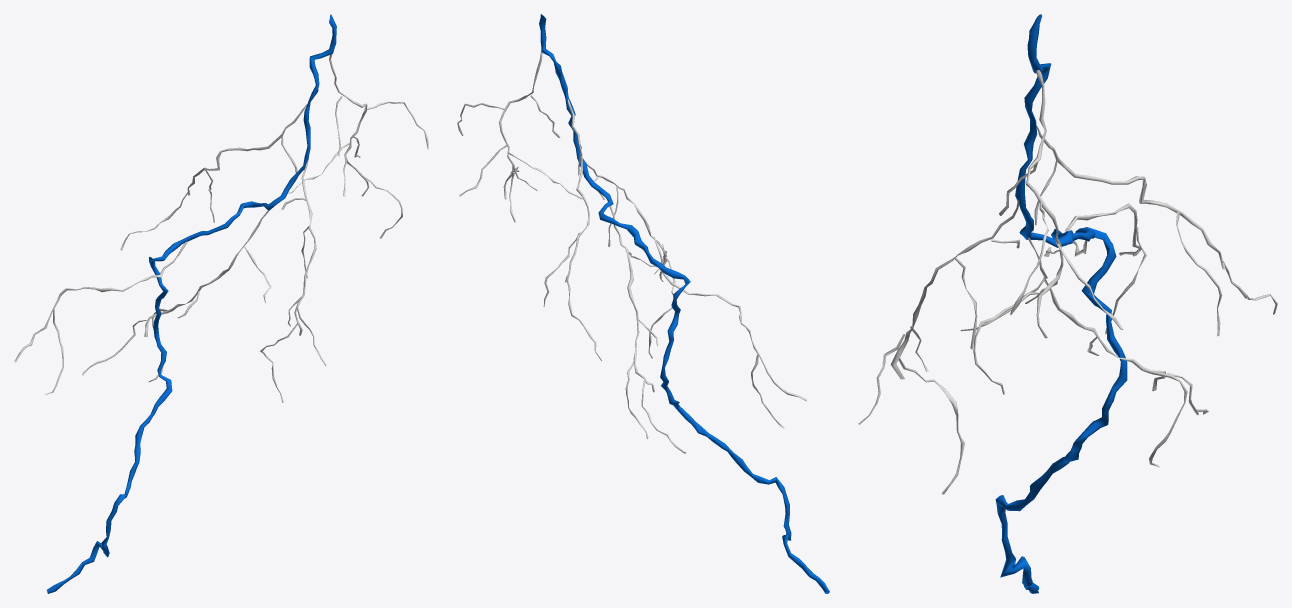
The model's file is LightingStrike_3.fbx.
3 views of the same model, side by side, from view 1: azimuth 30°, elevation 25°; view 2: azimuth 150°, elevation 25°; view 3: azimuth 270°, elevation 25° (orthographic). The views are drawn at different scales.
Parts seen in each view (by area): view 1: LightingStrike_3; view 2: LightingStrike_3; view 3: LightingStrike_3.
Part boxes in pixels (<box>): LightingStrike_3: <box>14,14,428,593</box>; LightingStrike_3: <box>457,14,829,593</box>; LightingStrike_3: <box>858,14,1277,593</box>.
Size of the model in its own units: 4482 by 5738 by 2746.
